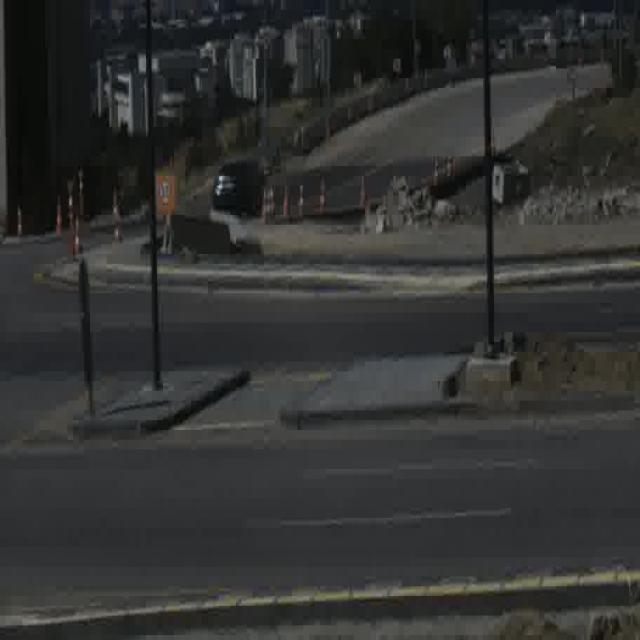Car: (214, 159, 267, 218)
